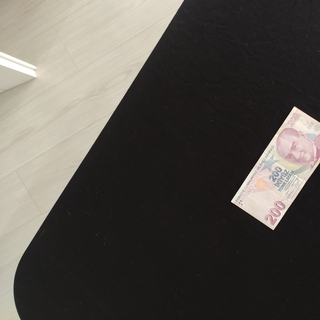200TLFront: (230, 106, 320, 231)
